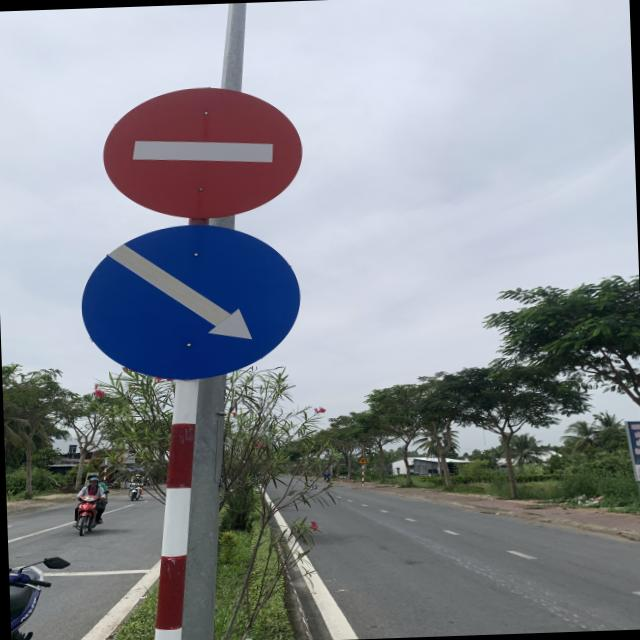Cam_Di_Nguoc_Chieu: (101, 82, 307, 223)
Chi_Huong_Di_Phai: (77, 218, 300, 384)
